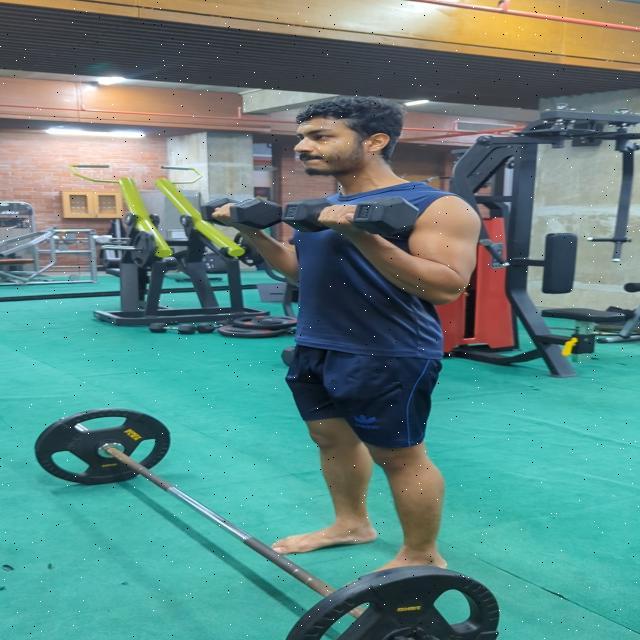Normal_DumbbellBicepCurls: (199, 95, 486, 587)
